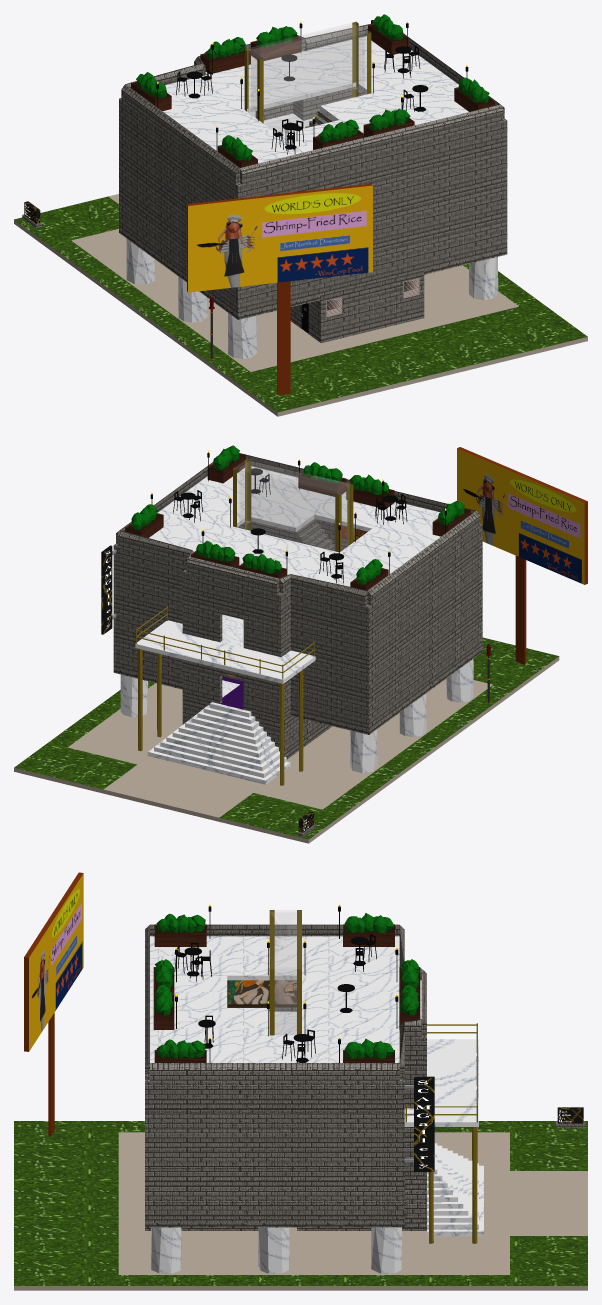
Rendered from Art Gallery.glb.
3 views of the same model, one above another, from view 1: azimuth 30°, elevation 25°; view 2: azimuth 150°, elevation 25°; view 3: azimuth 270°, elevation 25° (orthographic). The views are drawn at different scales.
Visible parts, largest first — view 1: Walls, Site, SFR BB, Roof, Base, Greenery, Pillars, Planter, Floor, Chair, Table, Louver; view 2: Walls, Site, Roof, SFR BB, Stairs, Patio, Greenery, Pillars, Planter, Base, Pillars.001, Floor (+5 smaller); view 3: Site, Walls, Roof, SFR BB, Greenery, Pillars, Patio, Stairs, Planter, Sign.001, Base, Paintings (+7 smaller).
Part boxes in pixels (left/top/right/bottom): Walls: left=119, top=21, right=507, bottom=315; Site: left=14, top=194, right=587, bottom=416; SFR BB: left=187, top=183, right=372, bottom=395; Roof: left=162, top=36, right=468, bottom=163; Base: left=290, top=270, right=424, bottom=342; Greenery: left=136, top=14, right=489, bottom=160; Pillars: left=126, top=239, right=498, bottom=358; Planter: left=131, top=23, right=494, bottom=167; Floor: left=119, top=229, right=507, bottom=319; Chair: left=176, top=45, right=420, bottom=154; Table: left=186, top=46, right=428, bottom=149; Louver: left=326, top=278, right=419, bottom=317; Walls: left=113, top=454, right=482, bottom=730; Site: left=14, top=637, right=559, bottom=843; Roof: left=149, top=466, right=440, bottom=586; SFR BB: left=457, top=447, right=587, bottom=664; Stairs: left=147, top=702, right=290, bottom=784; Patio: left=135, top=620, right=315, bottom=683; Greenery: left=131, top=445, right=464, bottom=584; Pillars: left=120, top=659, right=473, bottom=773; Planter: left=125, top=453, right=470, bottom=590; Base: left=182, top=676, right=332, bottom=759; Pillars.001: left=138, top=648, right=303, bottom=785; Floor: left=113, top=648, right=482, bottom=734; Site: left=14, top=1121, right=587, bottom=1290; Walls: left=145, top=910, right=426, bottom=1222; Roof: left=150, top=936, right=421, bottom=1062; SFR BB: left=24, top=872, right=83, bottom=1136; Greenery: left=154, top=913, right=419, bottom=1058; Pillars: left=151, top=1227, right=401, bottom=1273; Patio: left=404, top=1039, right=478, bottom=1126; Stairs: left=427, top=1143, right=483, bottom=1236; Planter: left=153, top=924, right=420, bottom=1062; Sign.001: left=404, top=1076, right=434, bottom=1171; Base: left=145, top=1179, right=426, bottom=1230; Paintings: left=227, top=980, right=296, bottom=1006.
Size of what is drawn, in the model's own units: 27.27 by 17.96 by 33.66.
67 materials, 34 textured.
